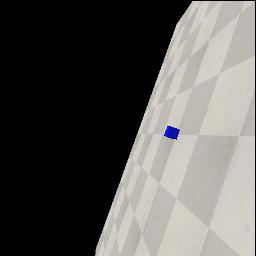box: (164, 126, 180, 140)
